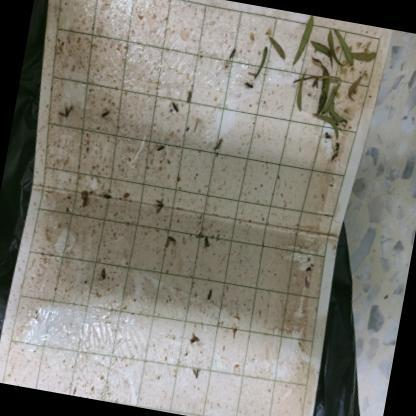prays_oleae: (225, 44, 238, 72), (151, 192, 167, 214), (211, 134, 226, 156), (56, 102, 74, 120), (168, 98, 180, 114), (243, 78, 255, 92), (156, 142, 165, 154)
